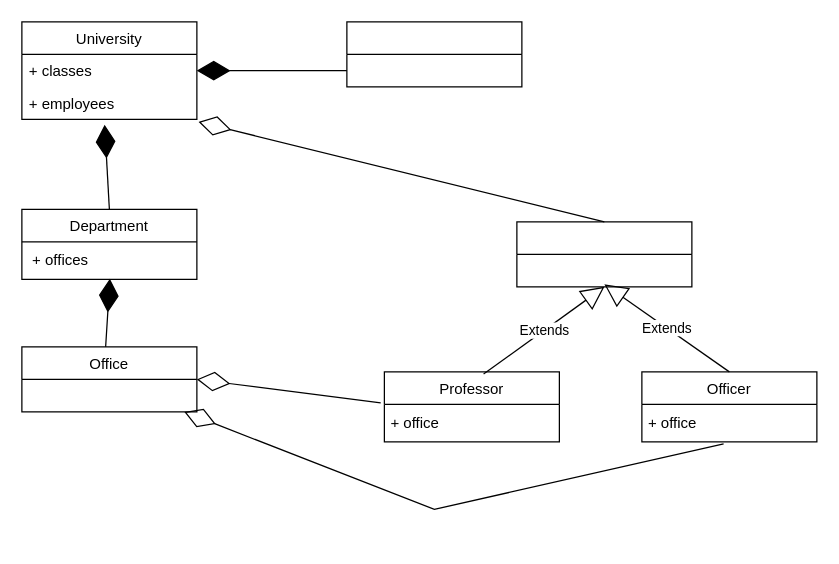
The diagram is 839 pixels wide and 564 high, and some of its shapes have lost their labels. Each missing label, with the box of its shape:
Class: (346, 21, 522, 87)
Employee: (516, 221, 692, 287)
